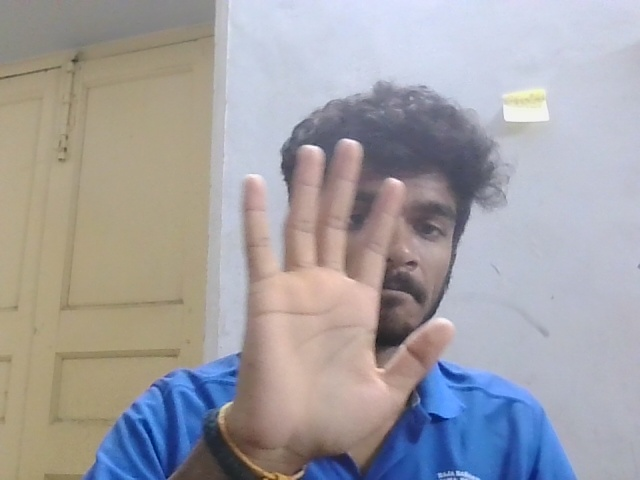Hello: (202, 129, 472, 456)
